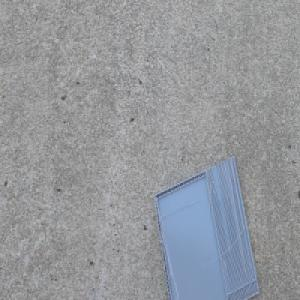PlasticPart: (152, 154, 260, 300)
